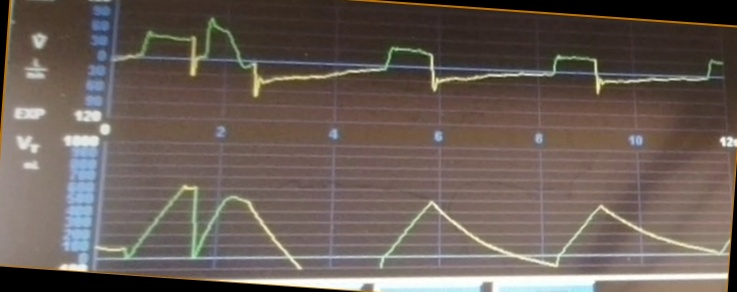Double_Triggering Flow: (119, 17, 610, 114)
Double_Triggering Volume: (103, 175, 624, 272)
